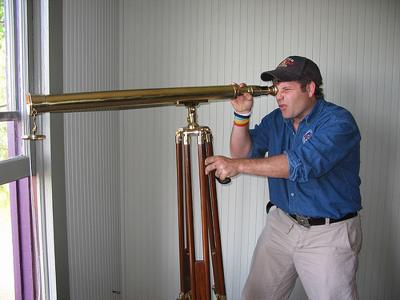person: (206, 57, 363, 300)
